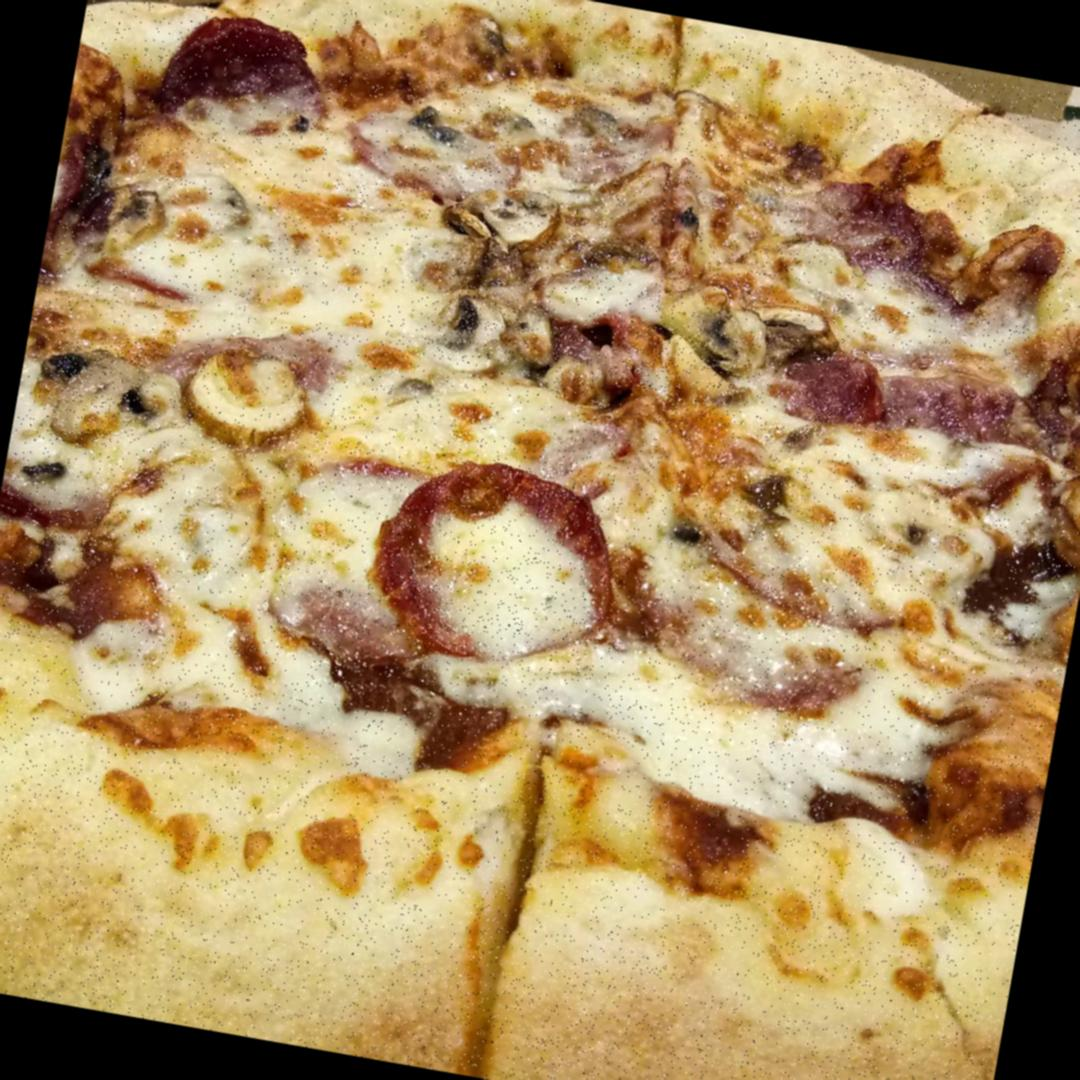Ham: (870, 352, 1052, 456), (808, 179, 954, 290), (294, 584, 414, 684)
Mushroom: (184, 344, 320, 450), (38, 328, 148, 454), (606, 313, 746, 408), (426, 282, 518, 368)
Pepperoni: (362, 444, 628, 674), (157, 10, 312, 132), (748, 304, 888, 436)
Pizza: (0, 0, 1080, 1080)
